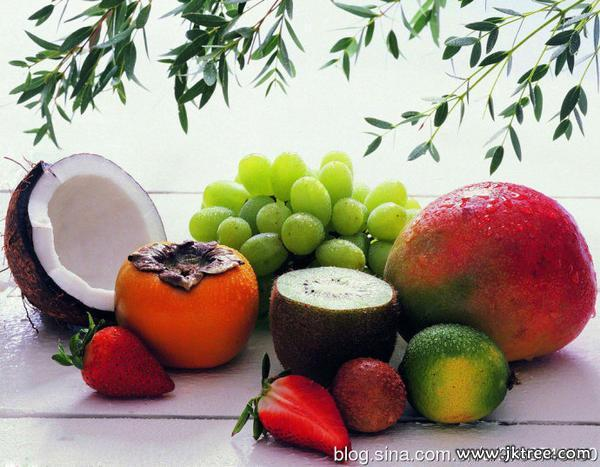apple: (385, 182, 596, 366)
